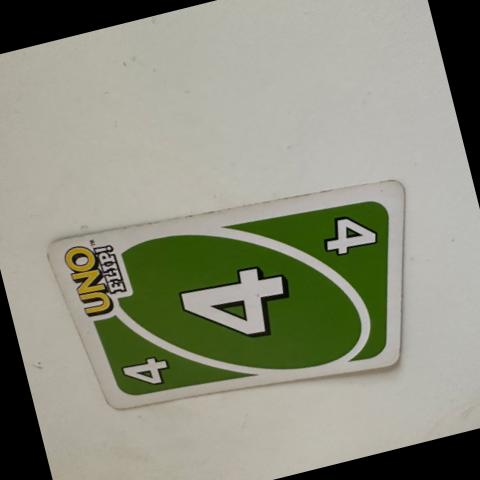lgreen-4: (102, 332, 186, 404)
